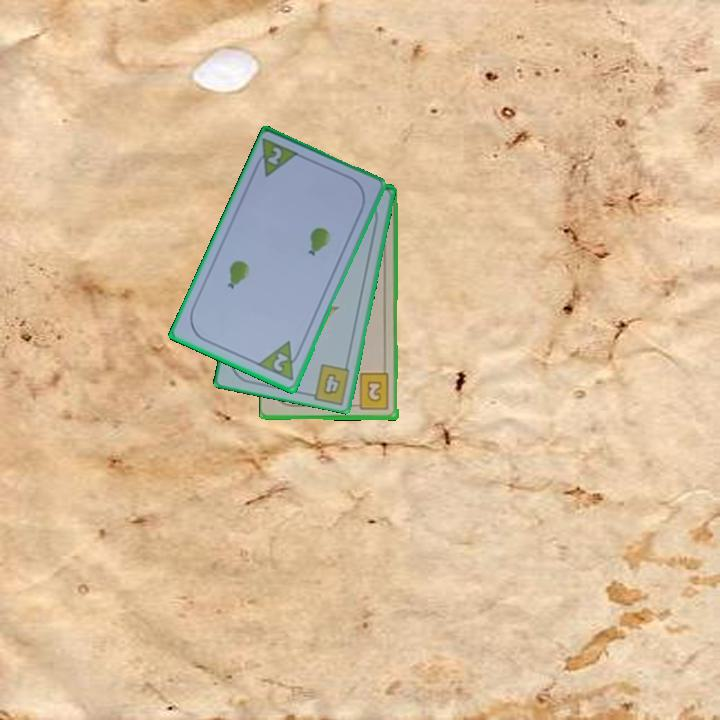2b: (350, 371, 392, 412)
2p: (254, 338, 305, 384), (263, 143, 285, 168)
4b: (320, 370, 344, 398)
